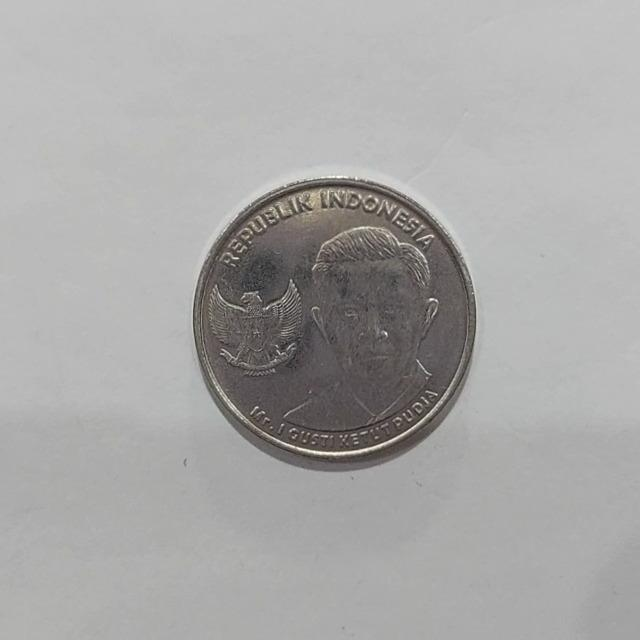Rp100: (191, 172, 478, 469)
